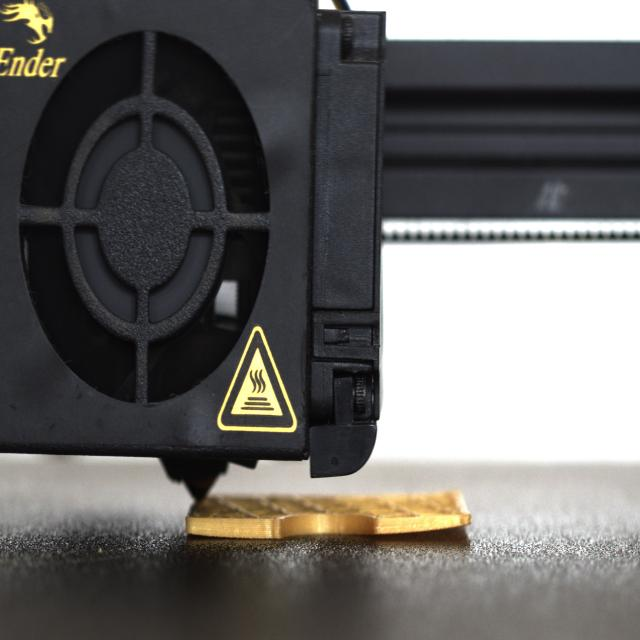Without deffect: (8, 26, 283, 417)
